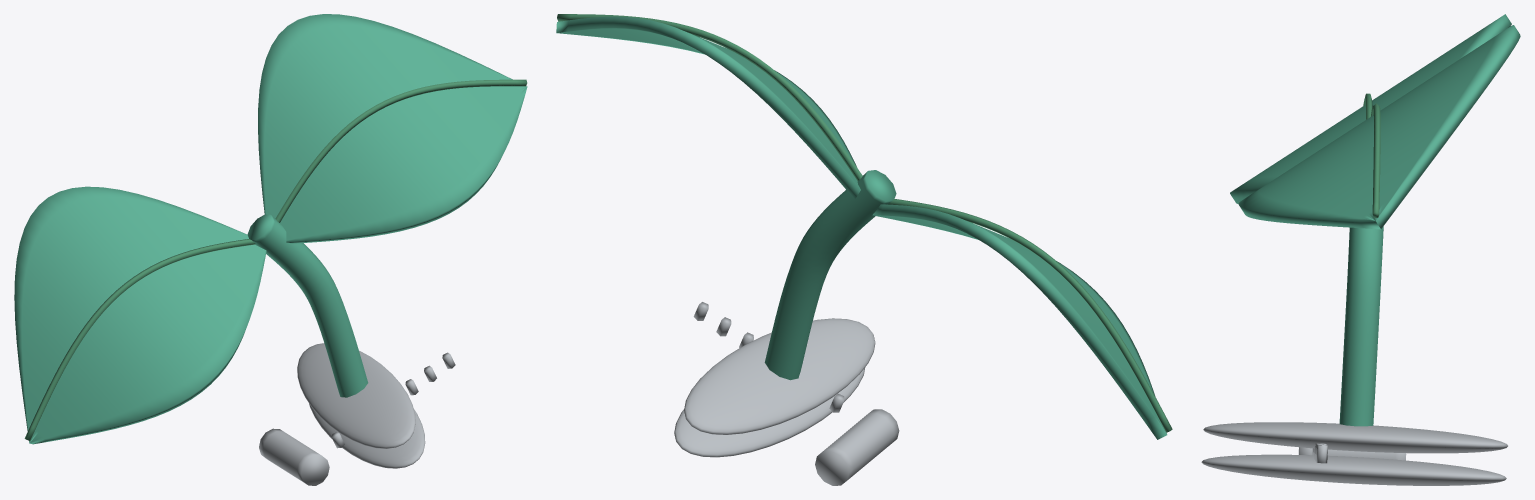
Rendered from Masculine-curly-top-cowboy254-sprout.glb.
3 views of the same model, side by side, from view 1: azimuth 30°, elevation 25°; view 2: azimuth 150°, elevation 25°; view 3: azimuth 270°, elevation 25° (orthographic). The views are drawn at different scales.
Visible parts, largest first — view 1: 226 extra / Accessory / mint226, 226 extra / Sprout / clip silver235, 226 extra / Sprout / leaf vein235; view 2: 226 extra / Accessory / mint226, 226 extra / Sprout / clip silver235, 226 extra / Sprout / leaf vein235; view 3: 226 extra / Accessory / mint226, 226 extra / Sprout / clip silver235, 226 extra / Sprout / leaf vein235.
Boxes of the visible parts, bbox=[...] form: 226 extra / Accessory / mint226: bbox=[14, 14, 527, 444]; 226 extra / Sprout / clip silver235: bbox=[259, 343, 455, 485]; 226 extra / Sprout / leaf vein235: bbox=[24, 79, 527, 440]; 226 extra / Accessory / mint226: bbox=[556, 16, 1167, 439]; 226 extra / Sprout / clip silver235: bbox=[674, 302, 899, 485]; 226 extra / Sprout / leaf vein235: bbox=[557, 14, 1172, 432]; 226 extra / Accessory / mint226: bbox=[1230, 14, 1520, 426]; 226 extra / Sprout / clip silver235: bbox=[1201, 422, 1507, 485]; 226 extra / Sprout / leaf vein235: bbox=[1363, 93, 1380, 217].
Bounding box in the file's own units: 0.2497 × 0.1841 × 0.1078.
